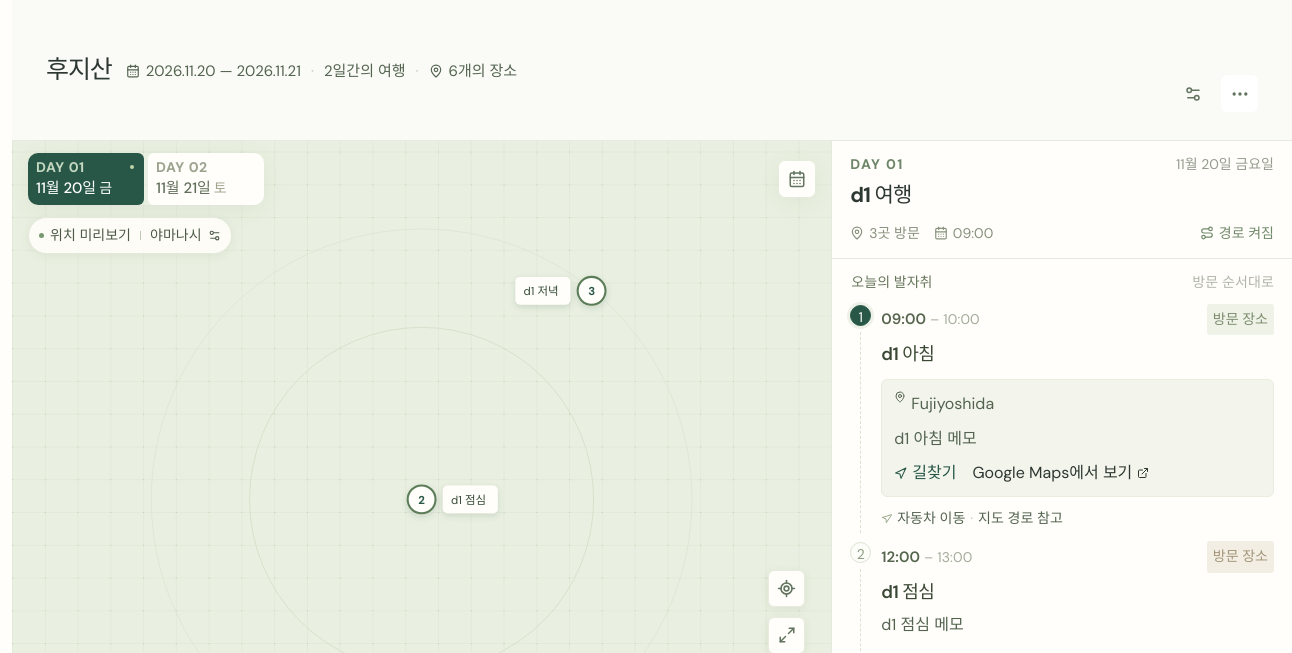
Test: shows my location on the preview map and turns it off from the same button
The width and height of the screenshot is (1292, 653).
Click the button named "내 위치 보기": coordinates (787, 588) 768,570 -> 805,607
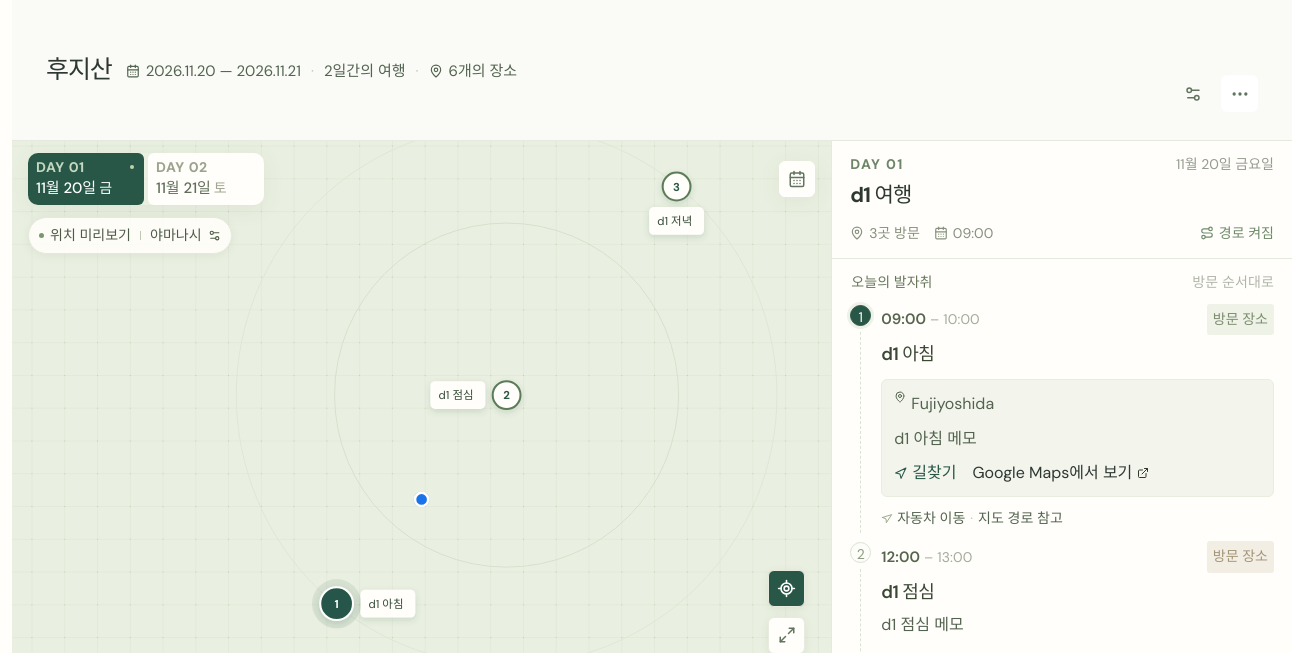
Click the button named "내 위치 끄기": coordinates (787, 588) 768,570 -> 805,607
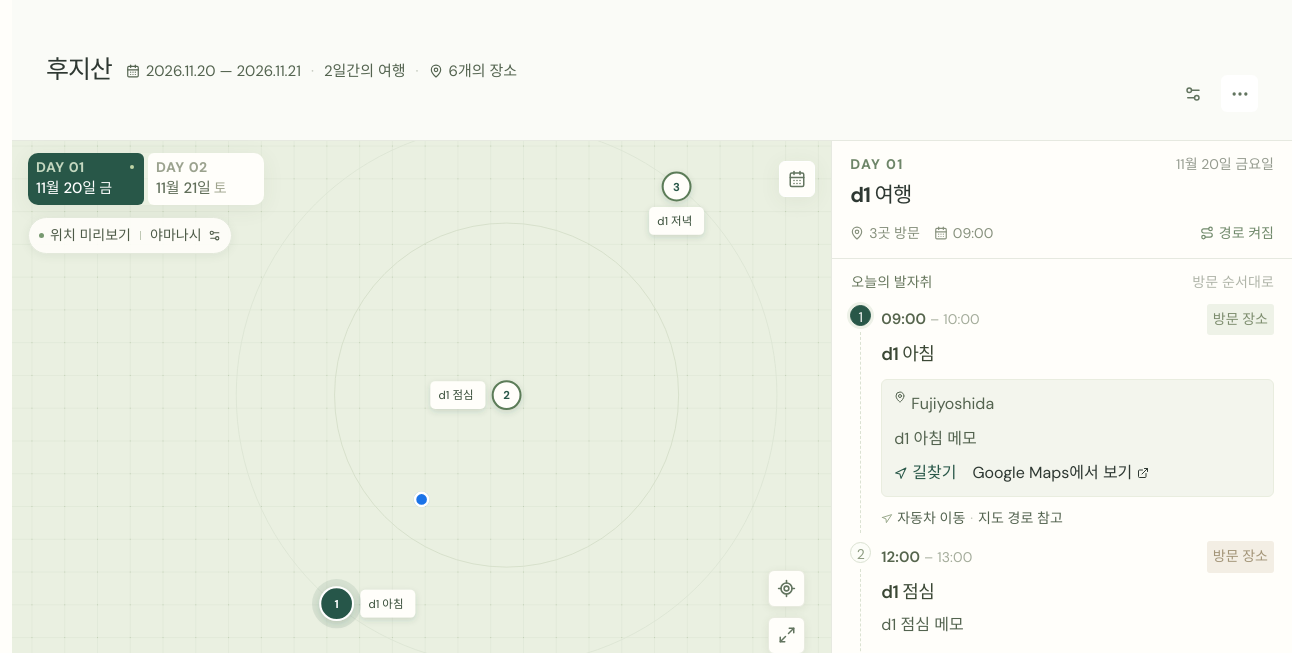
Expected: the button named "내 위치 보기" is shown, 768,570 -> 805,607
